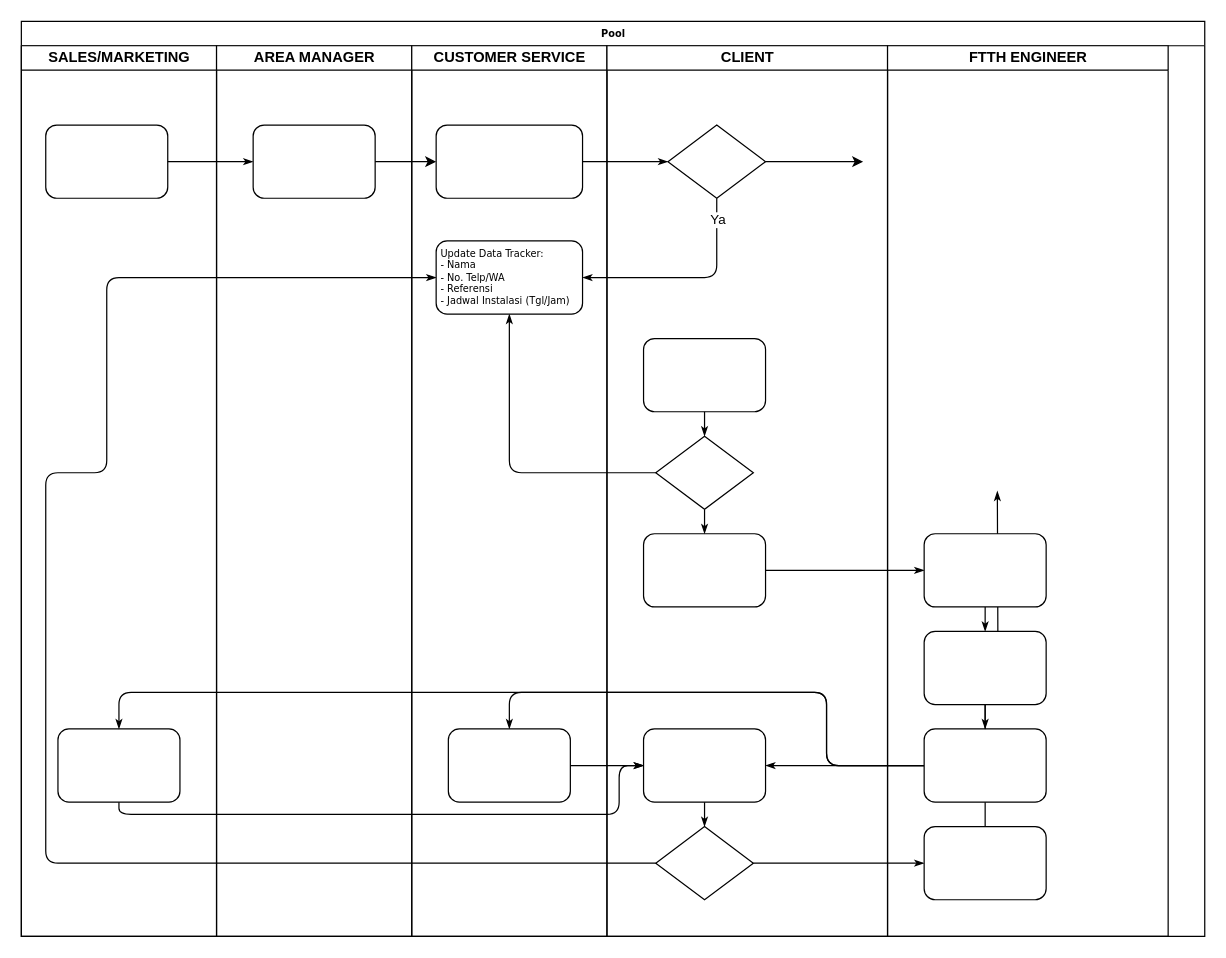
The diagram is 1226 pixels wide and 958 high, and some of its shapes have lost their labels. The centre of each missing label's shape, as x and y in pixels:
Data Leads: - Nama - No.Telp/WA: (x=106, y=161)
Konfirmasi Data Referal: (x=313, y=161)
Konfirmasi Jadwal Instalasi?: (x=716, y=161)
Terima Data: - Nama - No. Telp/WA - Referensi -: (x=509, y=161)
